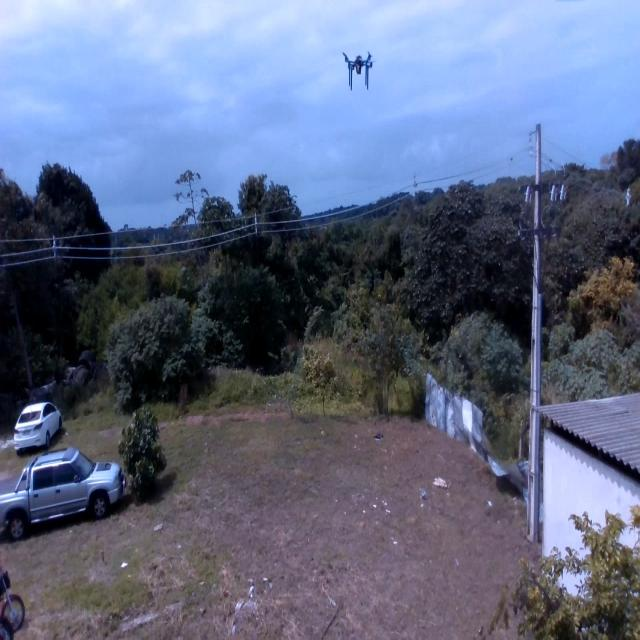-uav-: (337, 41, 382, 101)
